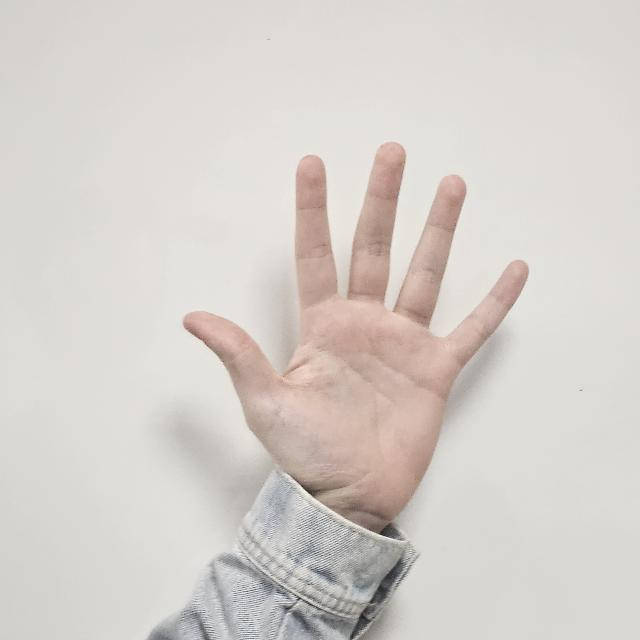X: (182, 137, 530, 525)
